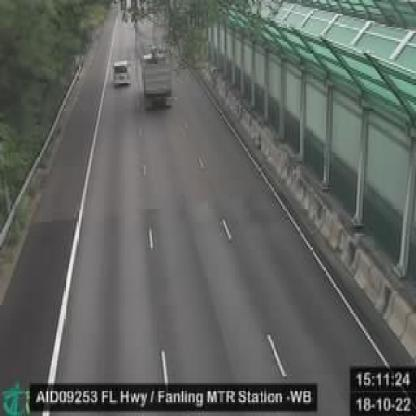Car: (114, 59, 130, 88)
Truck: (141, 54, 174, 113)
